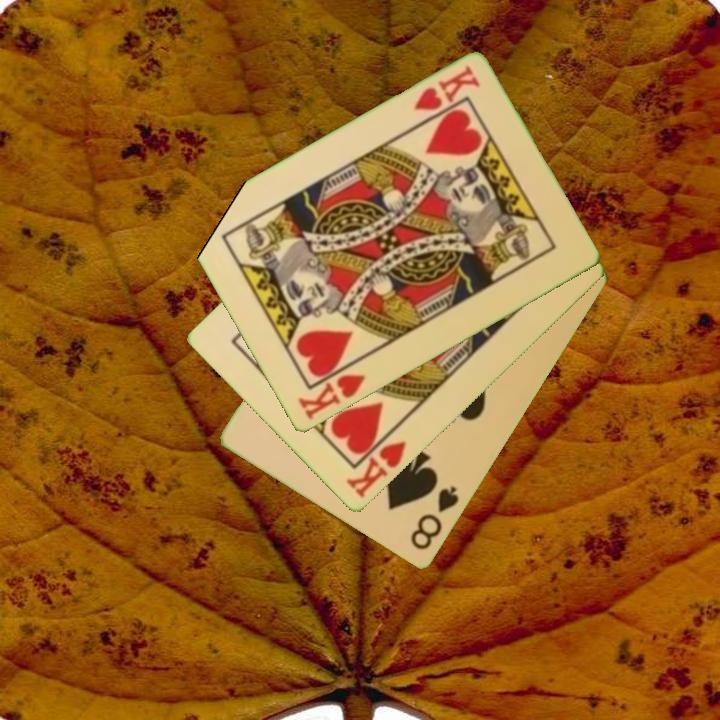8s: (407, 482, 462, 554)
Kh: (343, 425, 409, 502), (294, 357, 368, 423), (409, 62, 483, 115)
